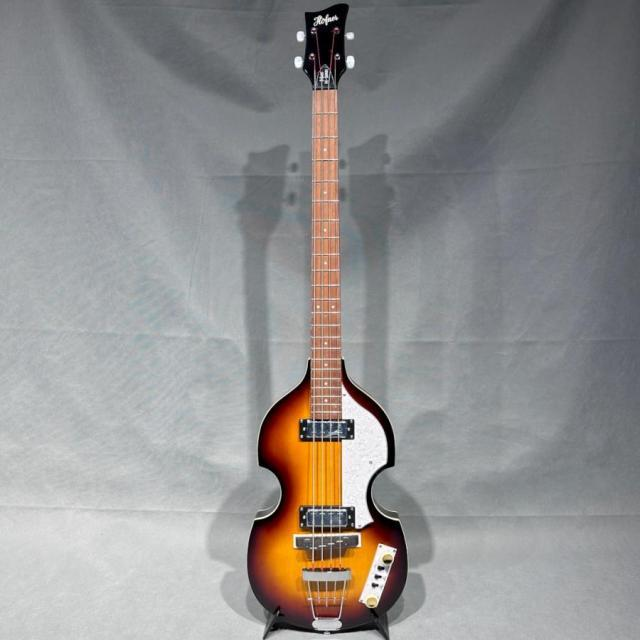bass: (248, 4, 406, 637)
